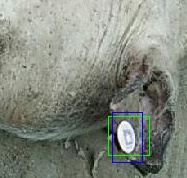text: (108, 116, 149, 155)
